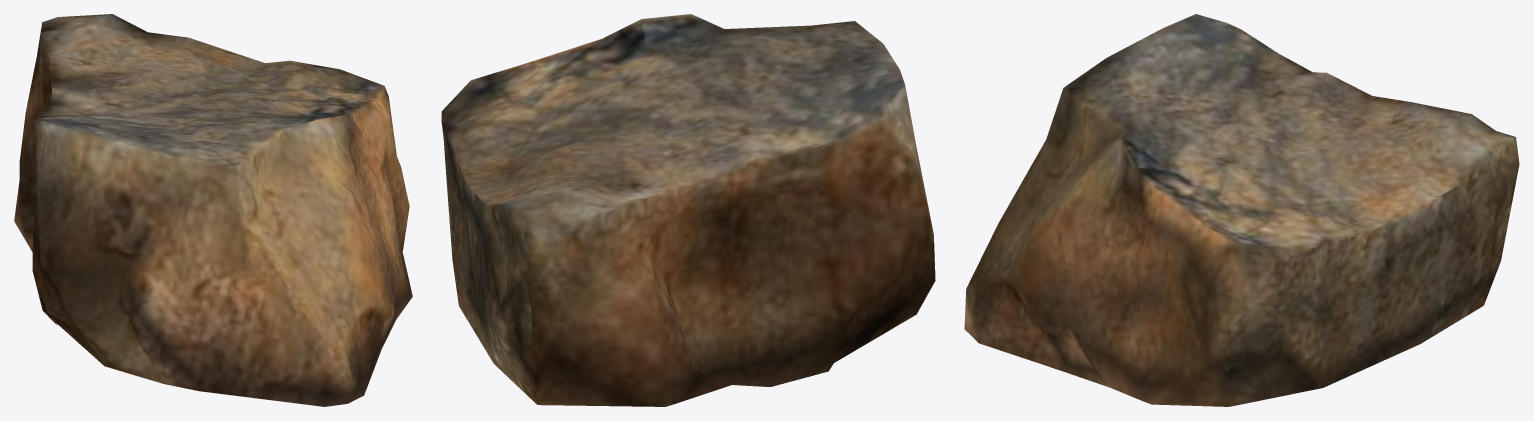
The model's file is boulder_c_lod1.glb.
The picture shows the model from 3 angles, left to right: view 1: azimuth 30°, elevation 25°; view 2: azimuth 150°, elevation 25°; view 3: azimuth 270°, elevation 25°; orthographic projection. The views are drawn at different scales.
Parts seen in each view (by area): view 1: boulder_03_LOD0; view 2: boulder_03_LOD0; view 3: boulder_03_LOD0.
Boxes of the visible parts, x1,y1,x2,y2 form: boulder_03_LOD0: [14, 14, 412, 406]; boulder_03_LOD0: [441, 14, 935, 406]; boulder_03_LOD0: [964, 14, 1519, 406].
Size of the model in its own units: 2.4 by 1.46 by 3.04.
Materials: 1 (1 with a texture image).
